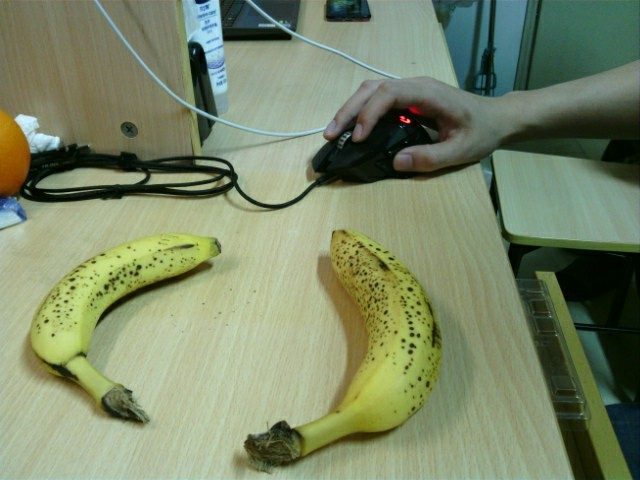normal_banana: (244, 229, 440, 467), (30, 235, 222, 423)
